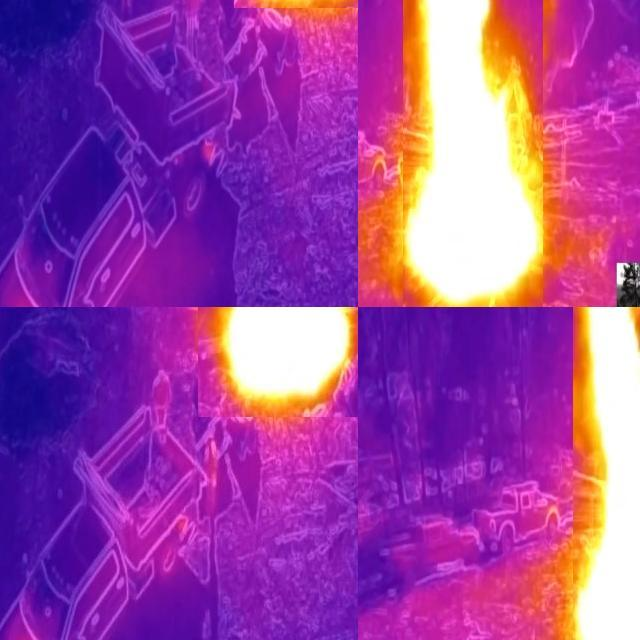fire: (403, 1, 543, 307), (573, 308, 640, 640), (198, 308, 358, 417)
